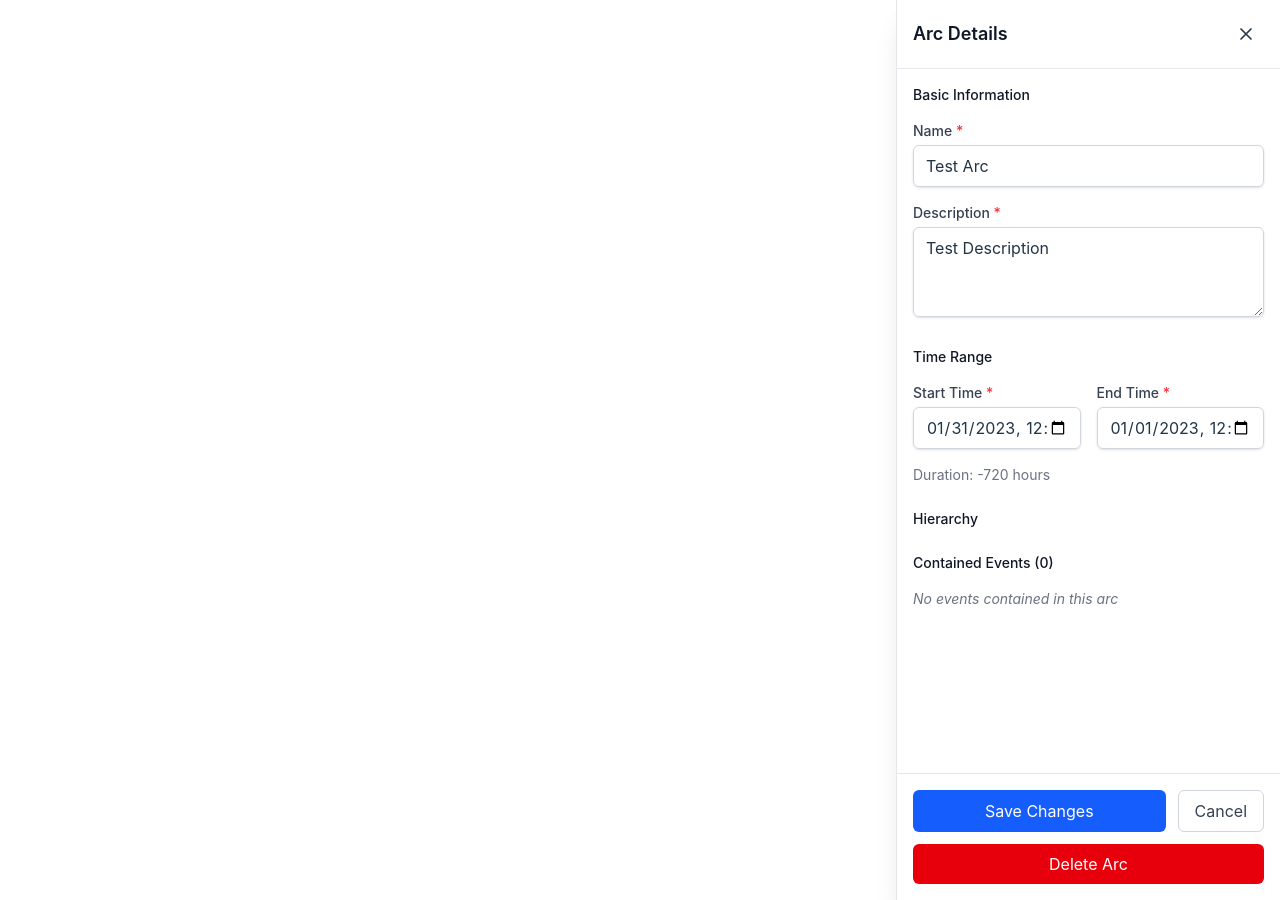
Test: ArcDetailPanel › Validation › shows validation error when end time is before start time
What coordinates should you click on to do the following:
click the button "Save Changes"
I would click on:
 (1039, 811)
Its box is [913, 790, 1166, 832].
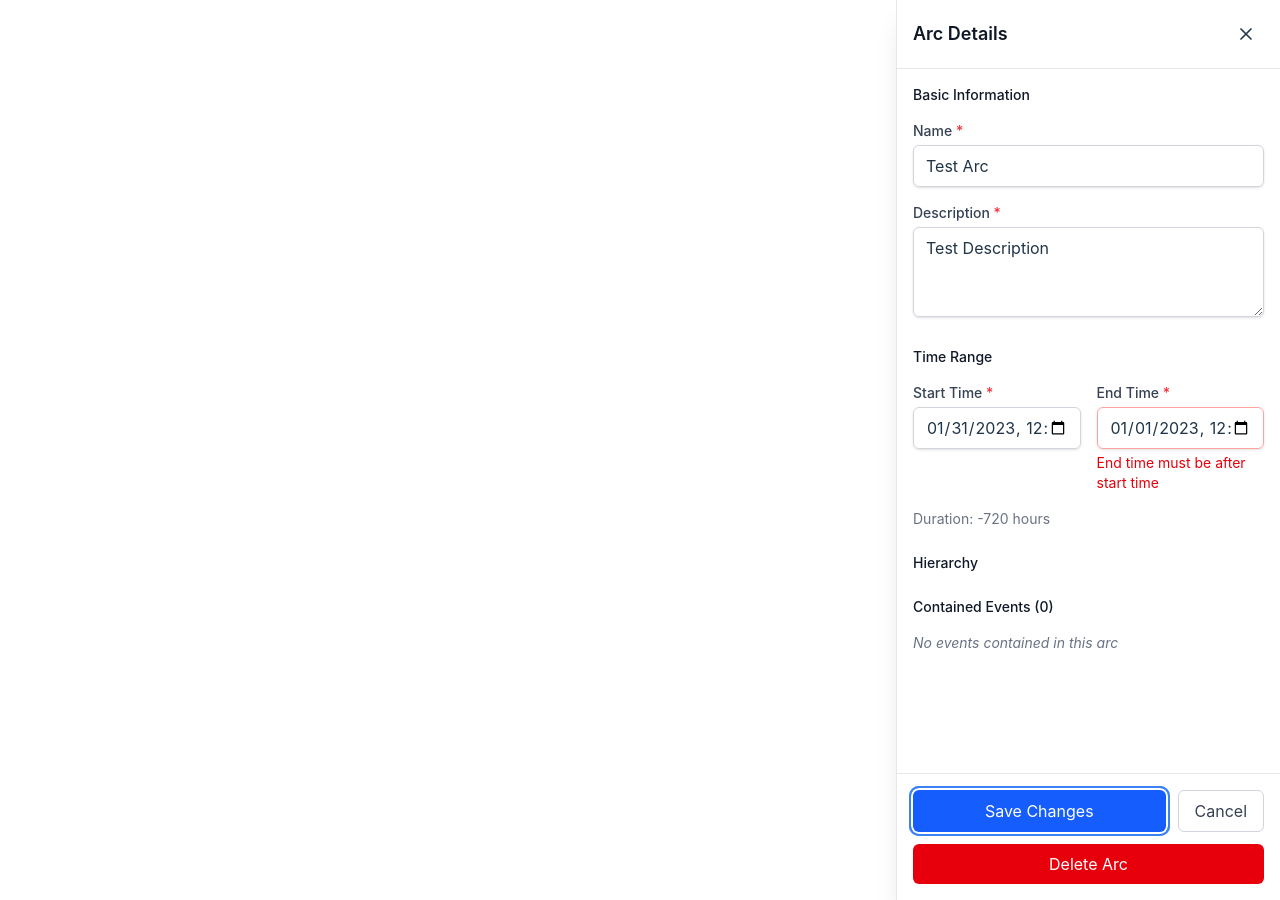
Expected: the text "End time must be after start time" is shown, [1096, 453, 1264, 493]
